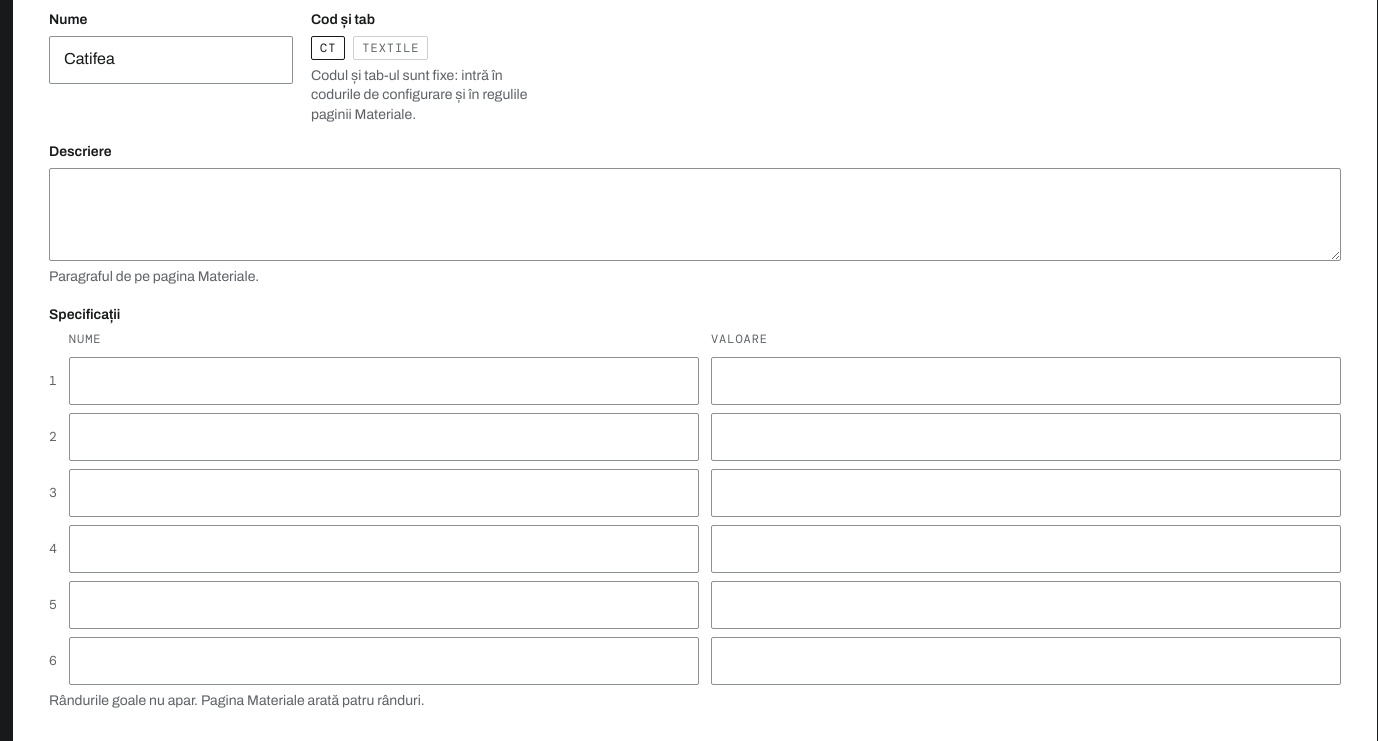
Test: FamilyForm › posts the id, the texts and every spec row to the action, and shows the saved notice
Type "Paragraf nou." into the text box labelled "Descriere" at (695, 215), box [49, 168, 1341, 261]
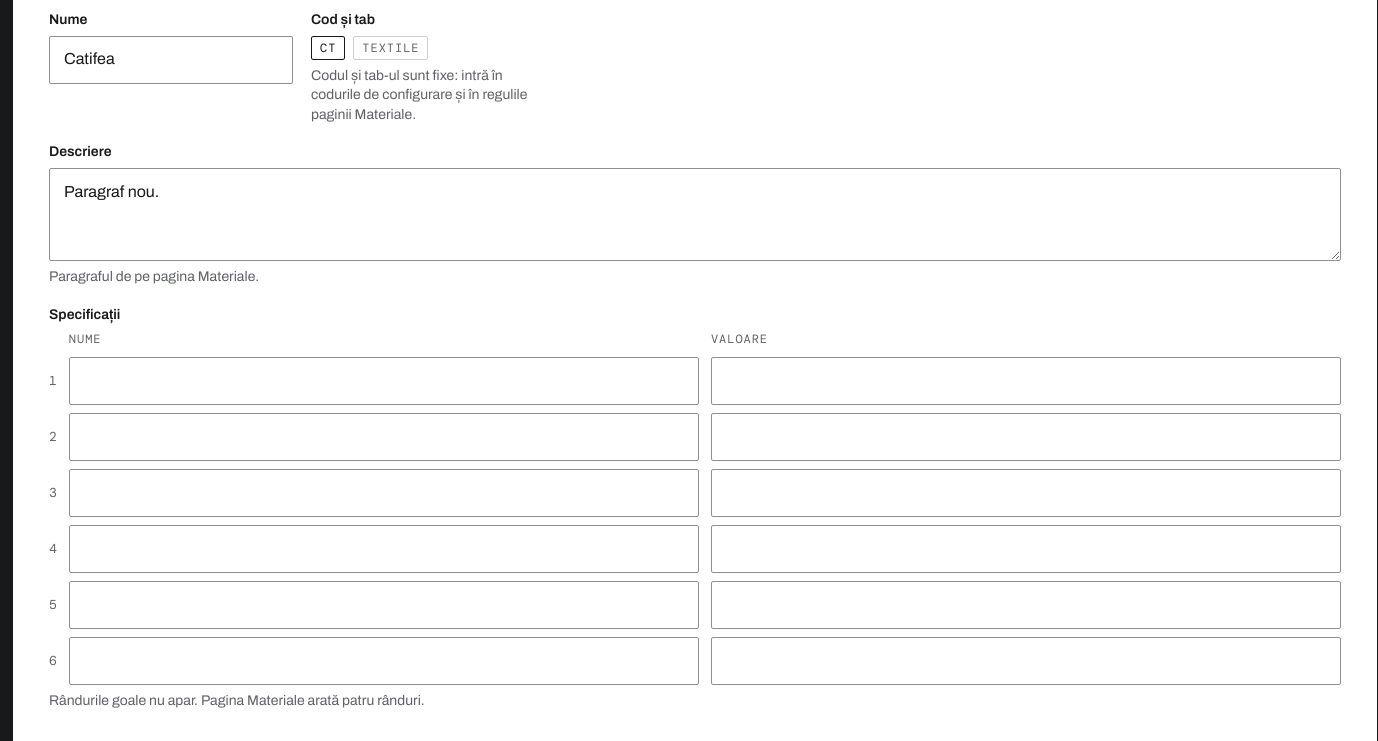
Type "Animale" into the field named "Rând 2, nume" at (384, 437), box [69, 413, 699, 461]
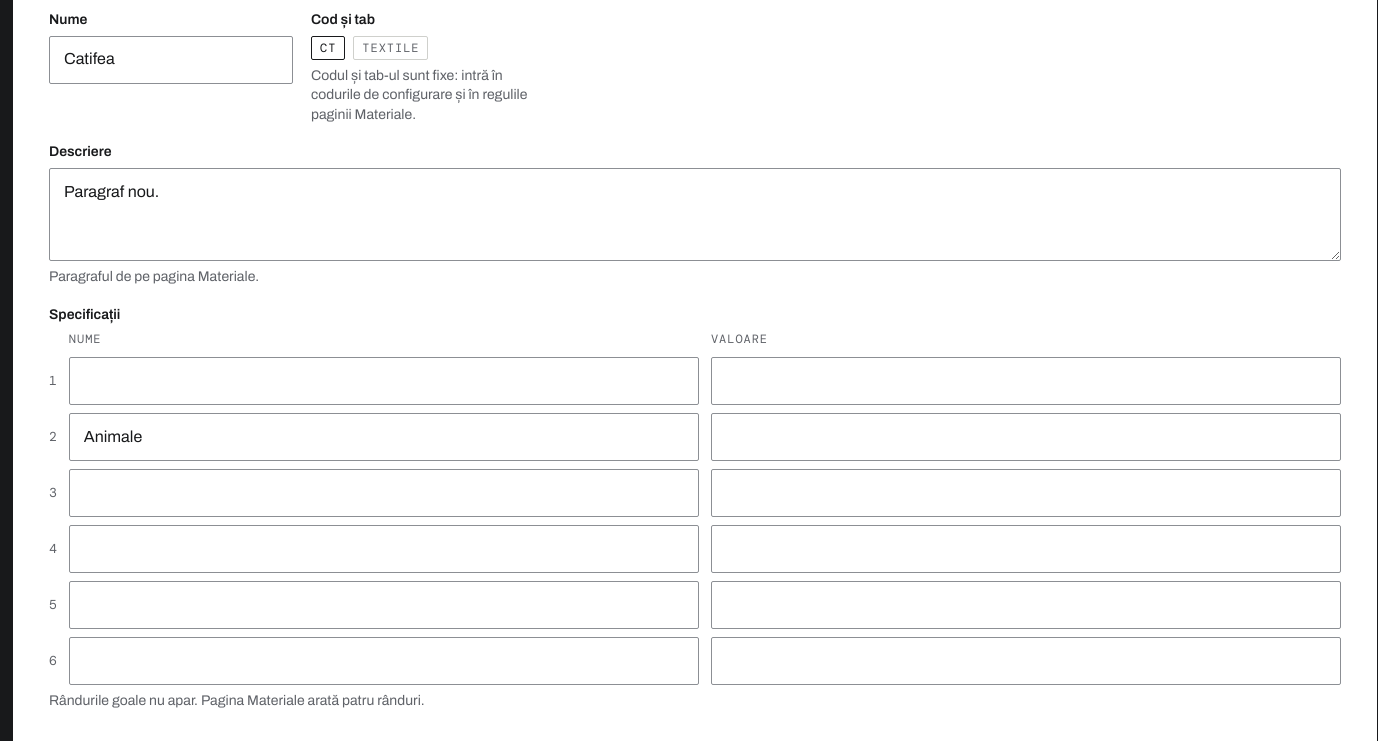
Type "potrivit" into the field named "Rând 2, valoare" at (1026, 437), box [711, 413, 1341, 461]
(page scrolled)
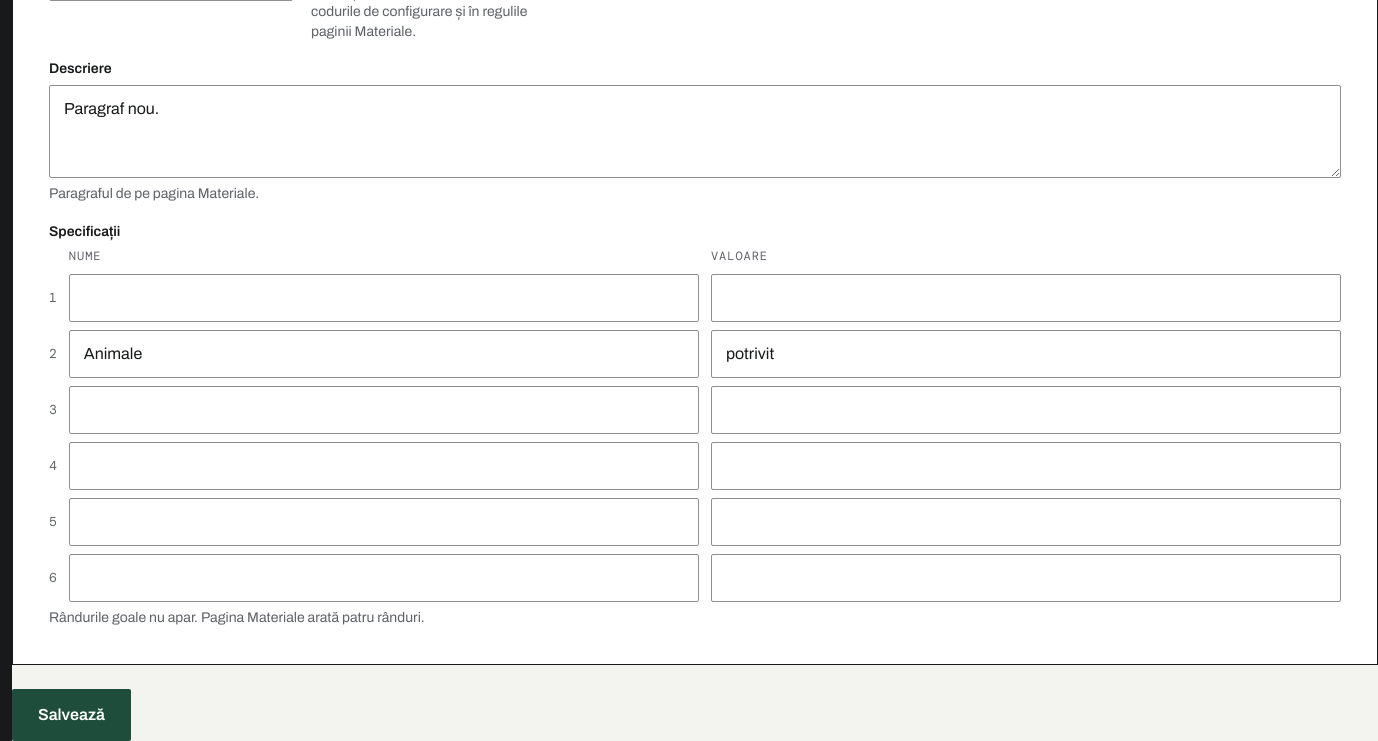
Click the button "Salvează" at (72, 714), box [12, 688, 131, 740]
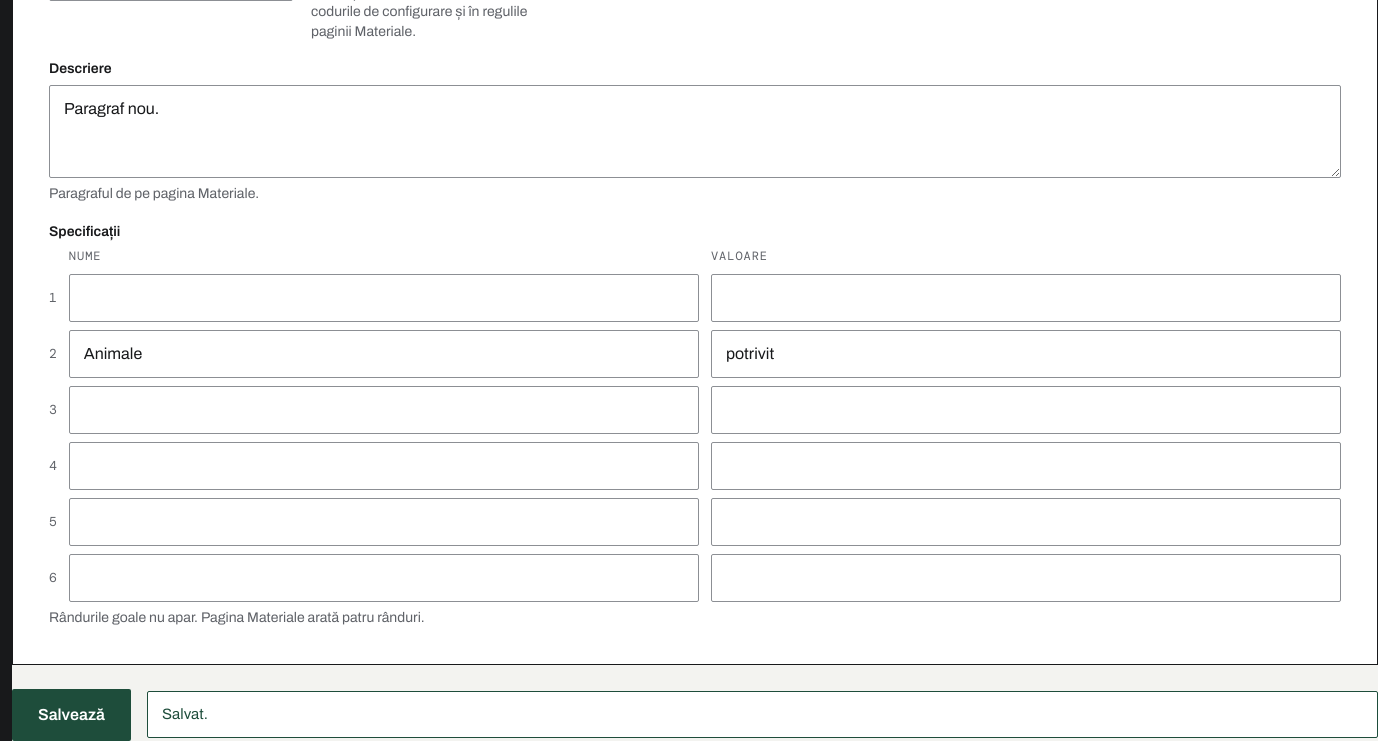
Expected: the message reads "Salvat.", [162, 706, 208, 722]
